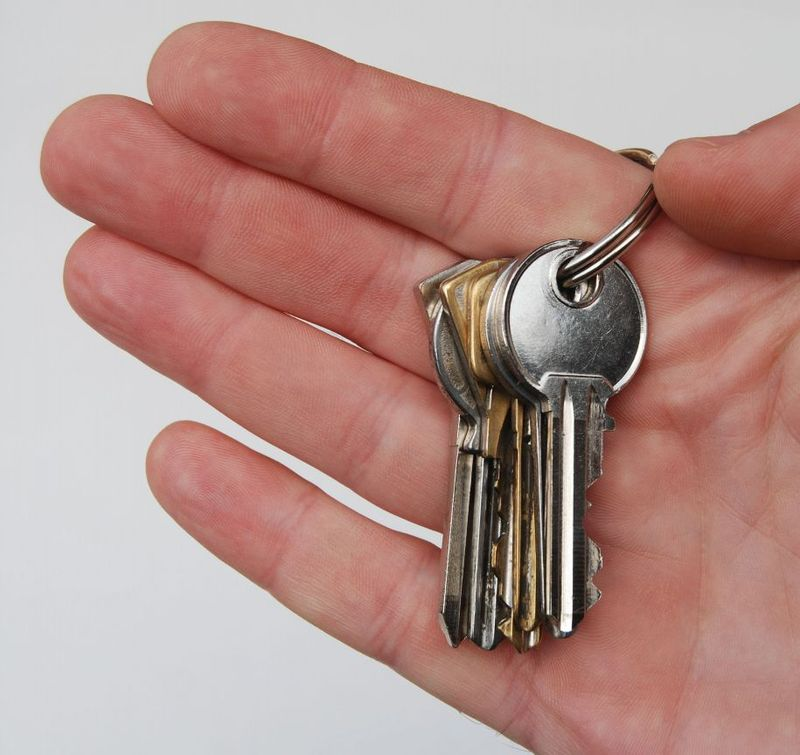keys: (402, 221, 646, 678)
